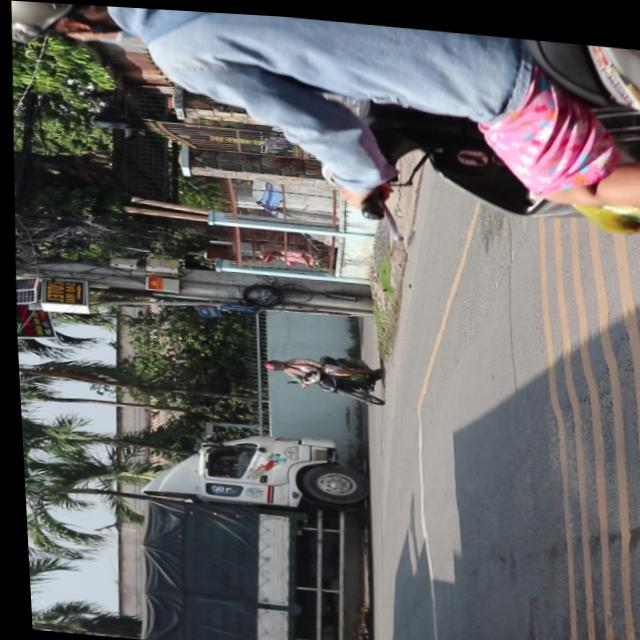helmet: (9, 0, 137, 47)
licenseplate: (4, 0, 640, 239)
